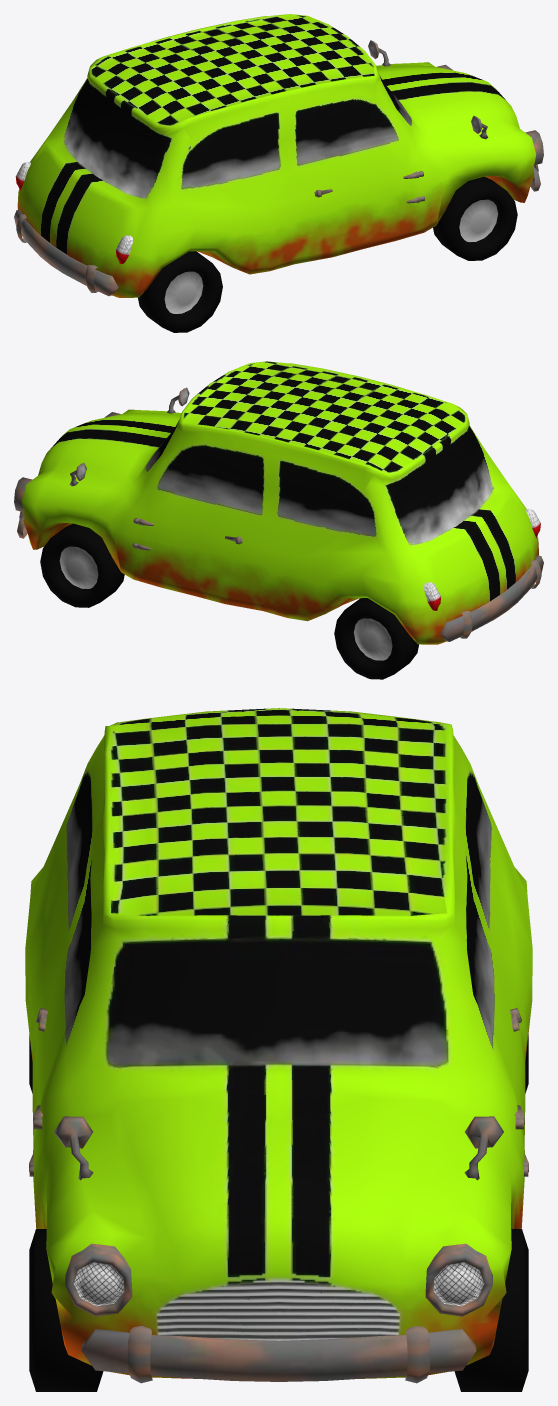
Rendered from cargreenvariant2.glb.
3 renders of one model, top to bottom at view 1: azimuth 30°, elevation 25°; view 2: azimuth 150°, elevation 25°; view 3: azimuth 270°, elevation 25°, orthographic. The views are drawn at different scales.
Parts seen in each view (by area): view 1: cargreenvariant2; view 2: cargreenvariant2; view 3: cargreenvariant2.
Part boxes in pixels (left/top/right/bottom): cargreenvariant2: left=14, top=14, right=543, bottom=332; cargreenvariant2: left=14, top=361, right=543, bottom=679; cargreenvariant2: left=25, top=708, right=532, bottom=1391.
Size of the model in its own units: 8.13 by 3.46 by 3.93.
1 material, 1 textured.
